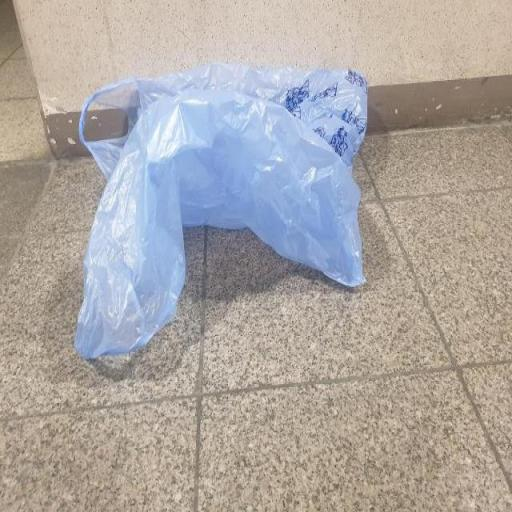plastic-bag: (74, 63, 370, 359)
